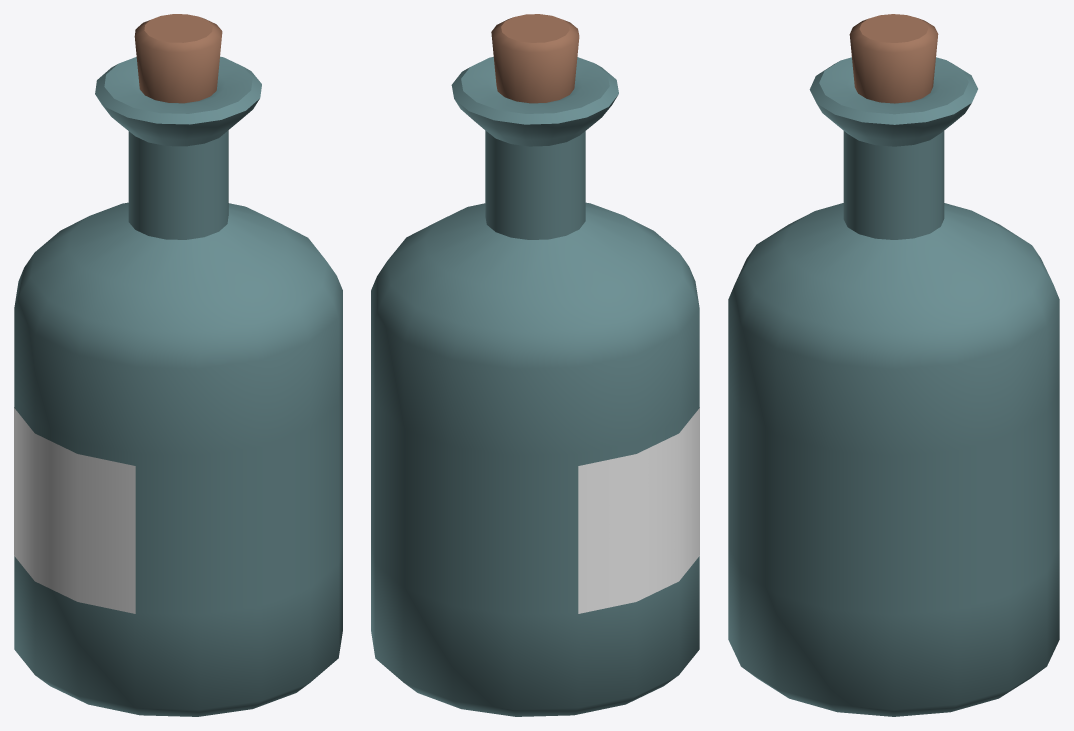
Rendered from SE_104_bottle.glb.
The picture shows the model from 3 angles, left to right: view 1: azimuth 30°, elevation 25°; view 2: azimuth 150°, elevation 25°; view 3: azimuth 270°, elevation 25°; orthographic projection.
Visible parts, largest first — view 1: bottle, label; view 2: bottle, label; view 3: bottle.
Boxes of the visible parts, x1=… form: bottle: x1=14, y1=14, x2=342, y2=716; label: x1=14, y1=407, x2=135, y2=613; bottle: x1=371, y1=14, x2=699, y2=716; label: x1=578, y1=407, x2=699, y2=613; bottle: x1=728, y1=14, x2=1059, y2=716.
Size of the model in its own units: 0.3602 by 0.7505 by 0.36.
